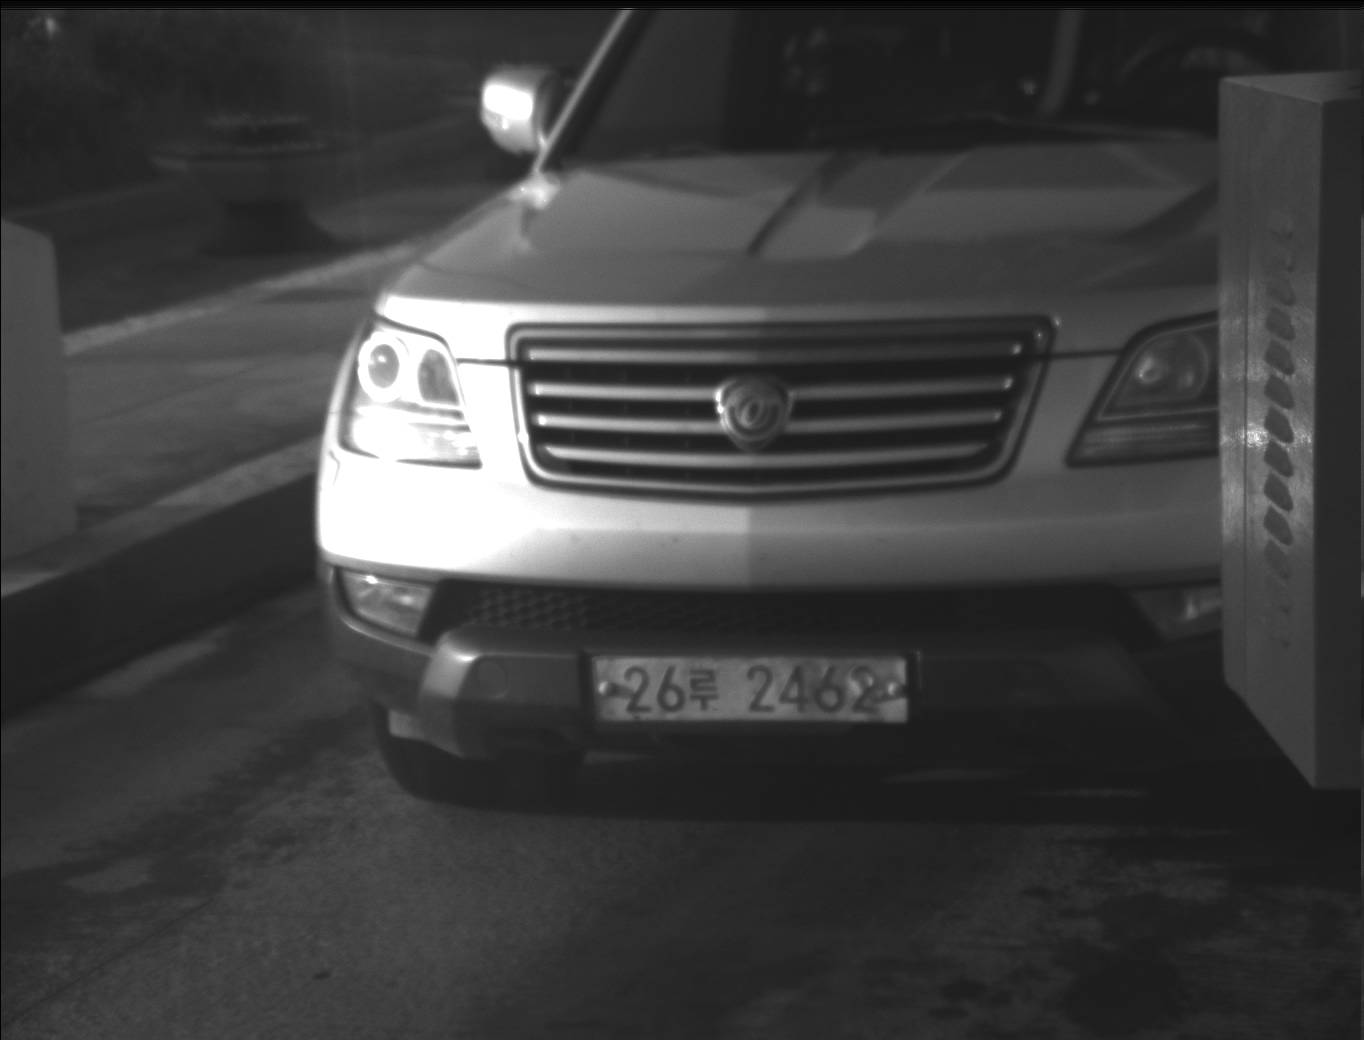car: (312, 1, 1215, 799)
plate: (589, 649, 915, 726)
